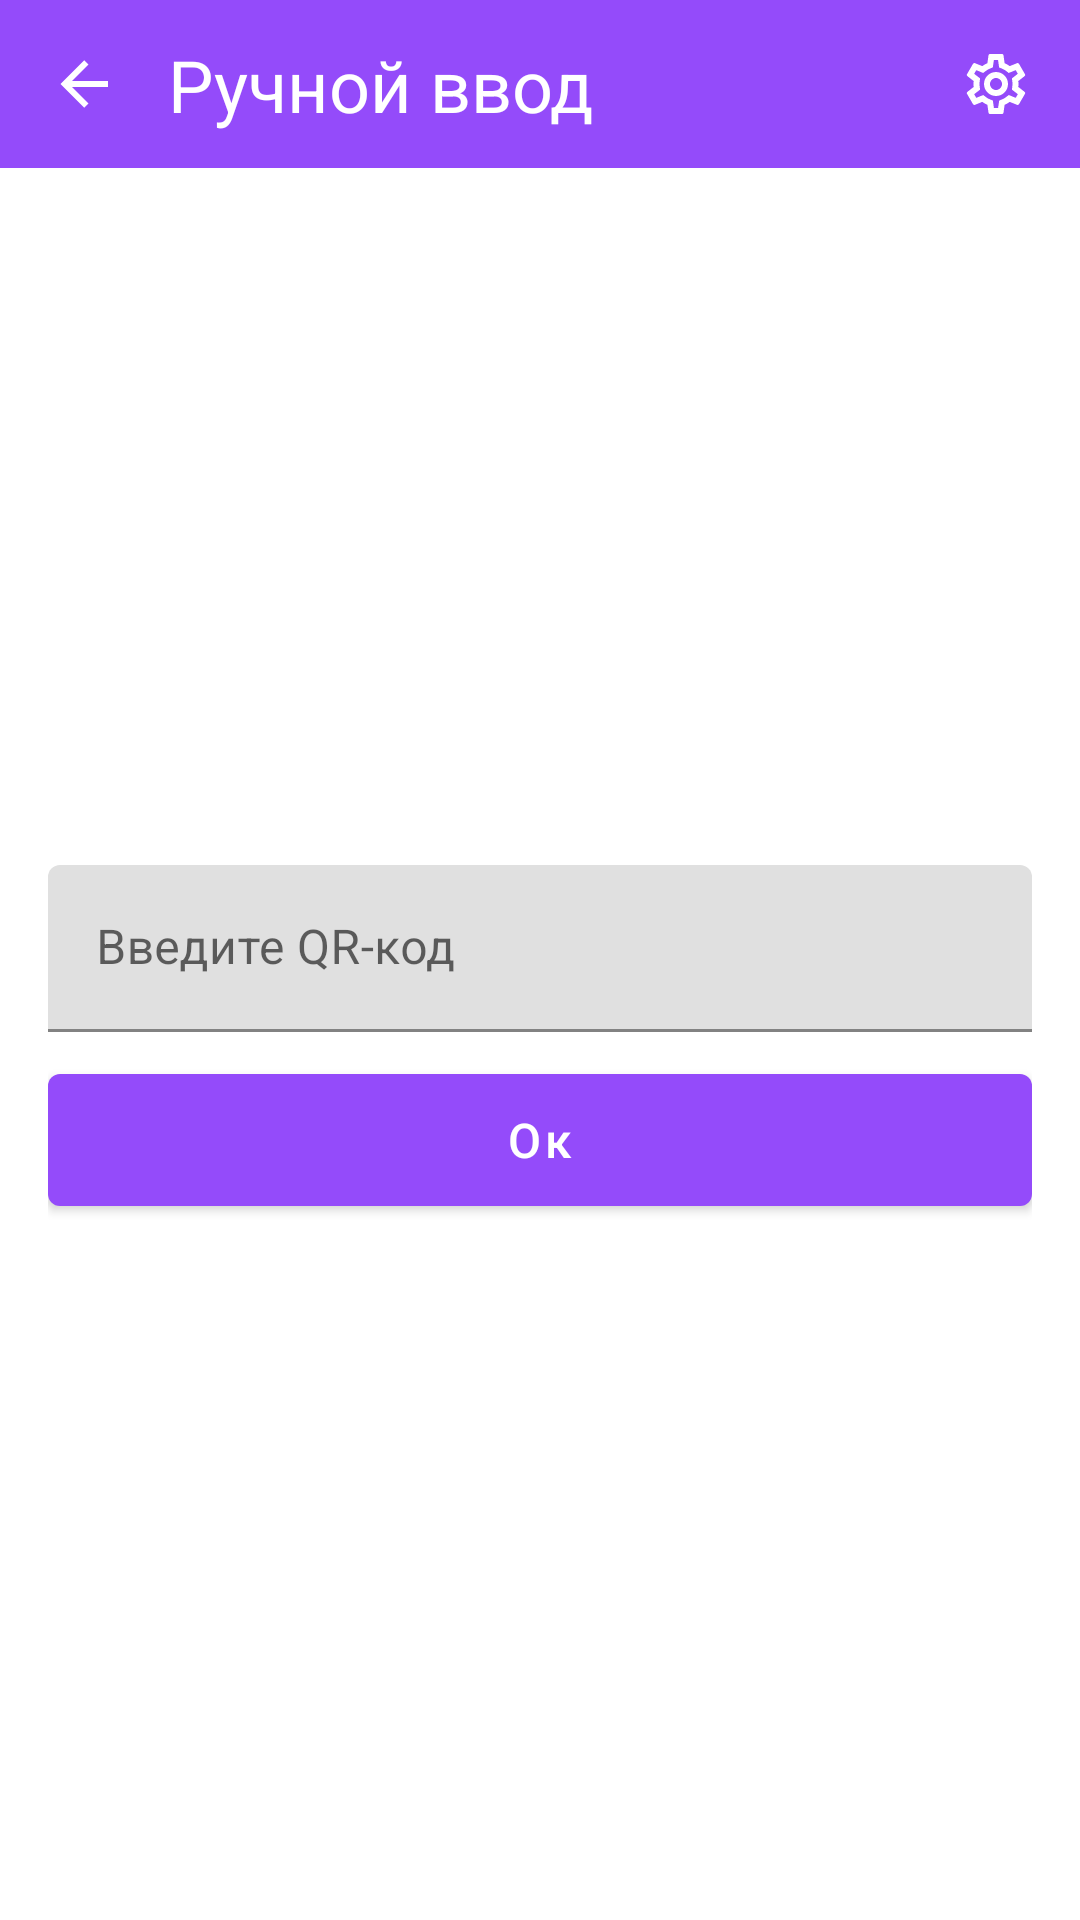

Where icons sit on this 1080x1920 app screen, as [x1=x1, y1=y1, x2=x2, y2=y2]:
back: [x1=61, y1=60, x2=108, y2=108]
settings: [x1=967, y1=54, x2=1025, y2=114]
